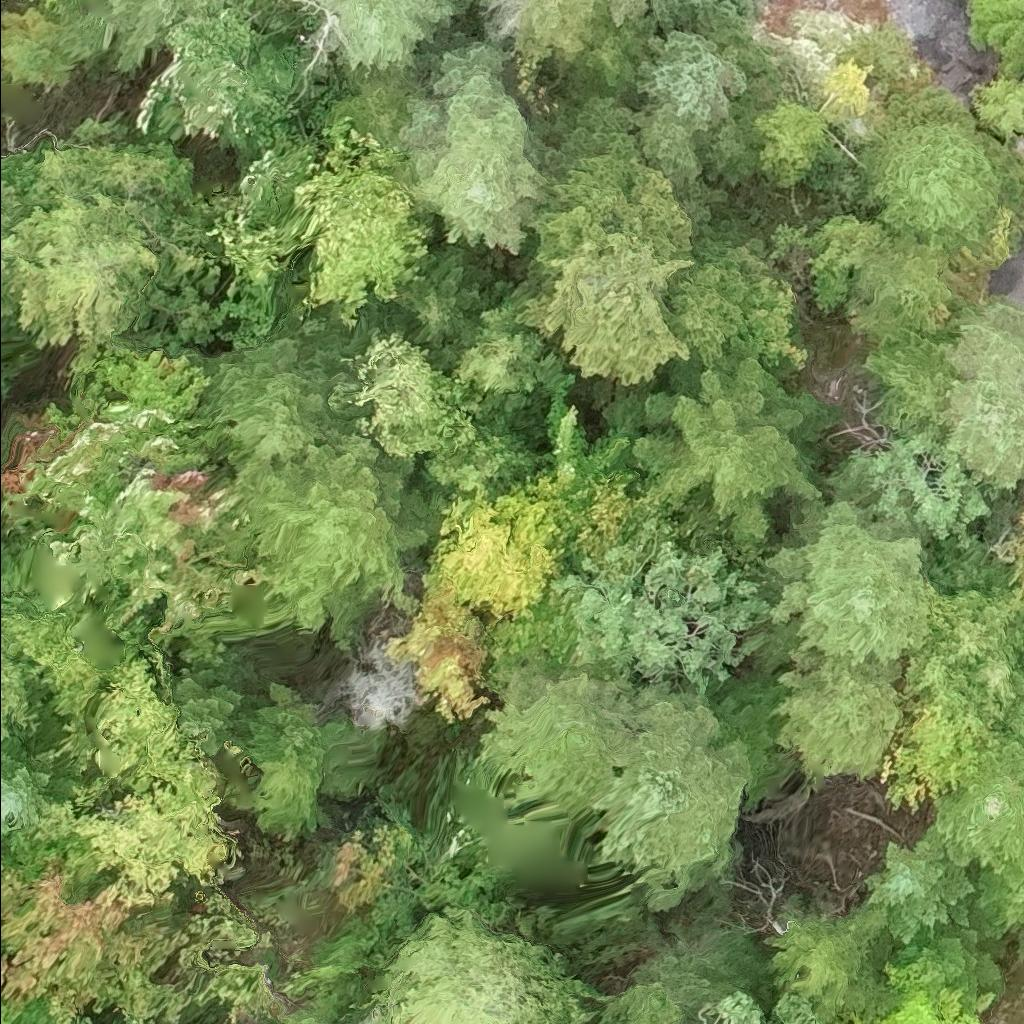crown: (514, 93, 696, 388), (602, 335, 846, 543), (547, 506, 777, 692), (763, 494, 931, 663), (817, 420, 994, 553), (771, 649, 905, 782), (945, 306, 1023, 491), (863, 823, 977, 946), (454, 290, 582, 398), (934, 737, 1023, 890), (965, 864, 1023, 940), (993, 508, 1023, 596)
